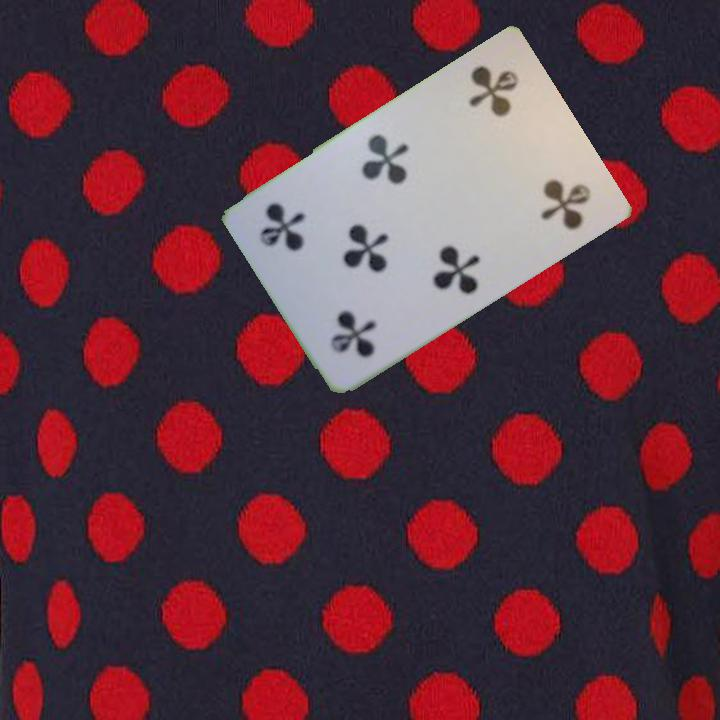c_7.png: (288, 250, 412, 378), (438, 45, 562, 173)
